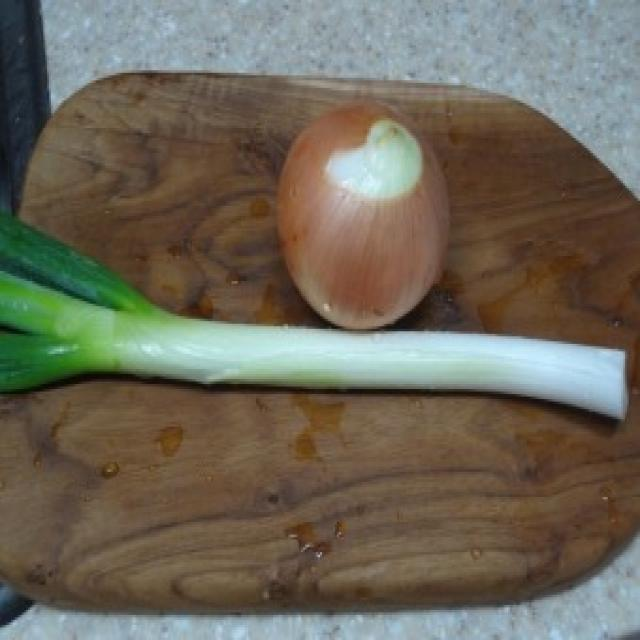onion: (270, 81, 464, 335)
